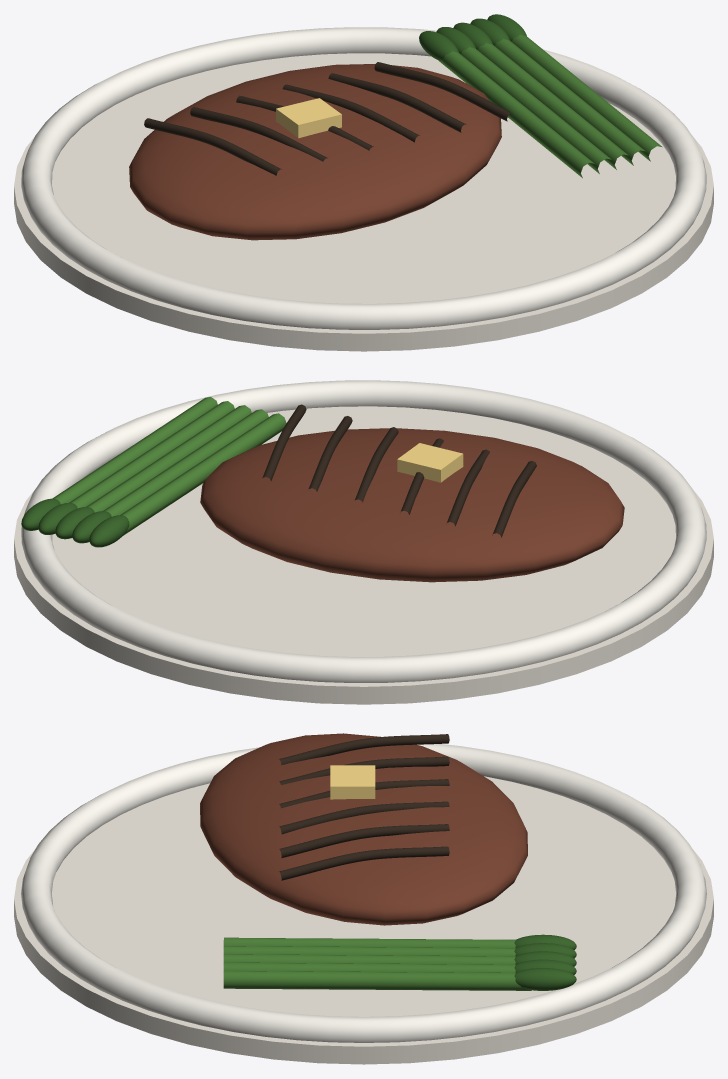
File: steak.glb
3 views of the same model, one above another, from view 1: azimuth 30°, elevation 25°; view 2: azimuth 150°, elevation 25°; view 3: azimuth 270°, elevation 25° (orthographic).
Visible parts, largest first — view 1: Stylized demo steak; view 2: Stylized demo steak; view 3: Stylized demo steak.
Part boxes in pixels (box(x1,y1,x2,y2)): Stylized demo steak: box(14, 14, 713, 351); Stylized demo steak: box(14, 380, 713, 704); Stylized demo steak: box(14, 733, 713, 1064).
Size of the model in its own units: 2.5 by 0.4375 by 2.5.
